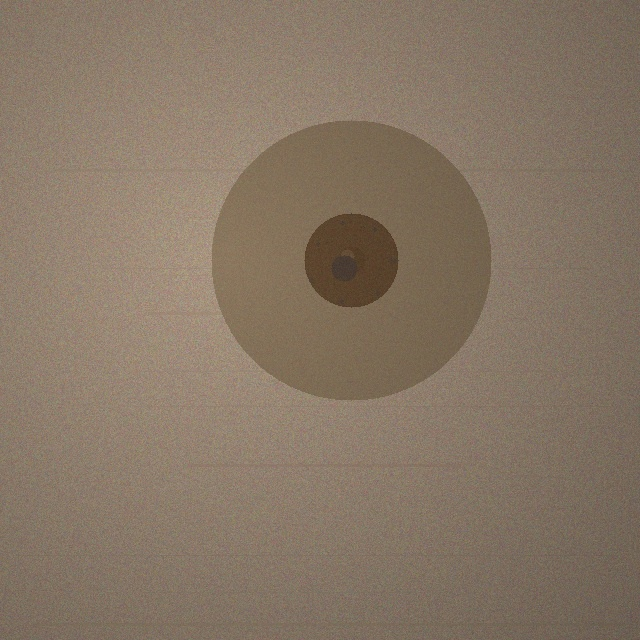cold_weld: (211, 120, 491, 400)
